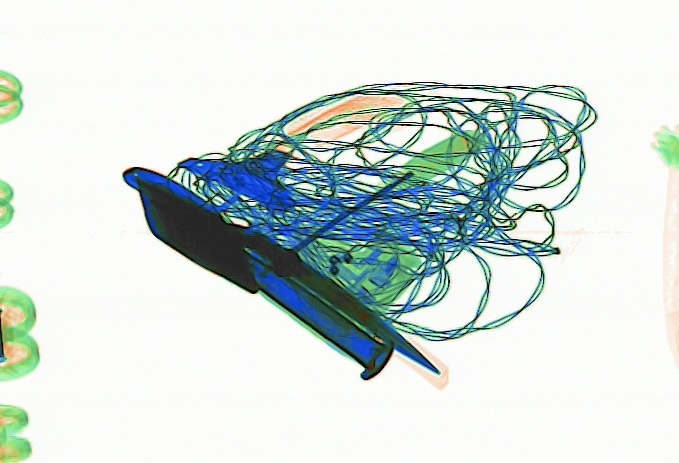knife: (173, 152, 298, 211)
